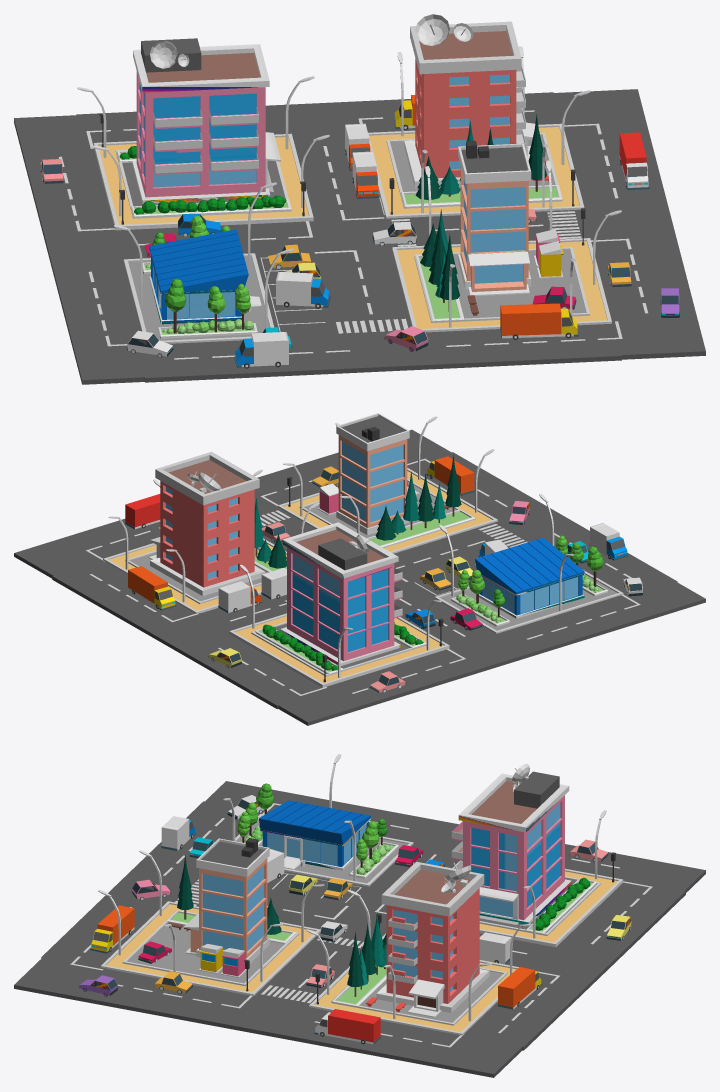
Rendered from smartCity.obj.
The picture shows the model from 3 angles, top to bottom: view 1: azimuth 30°, elevation 25°; view 2: azimuth 150°, elevation 25°; view 3: azimuth 270°, elevation 25°; orthographic projection. The views are drawn at different scales.
Visible parts, largest first — view 1: ROAD, House, House_1, House_2, Shop, Floor, Floor_2, Floor_1, ROAD.Lines.12, Floor.4_2, Floor.4_3, Car_08.5 (+24 smaller); view 2: ROAD, House, House_1, House_2, Shop, Floor, Floor_2, ROAD.Lines.12, Floor.4_3, Car_08.3, Cube.7_1, Floor_1 (+13 smaller); view 3: ROAD, House, House_1, House_2, Shop, Floor_2, Floor.4_2, Floor_1, Floor, ROAD.Lines.12, Floor.4_1, Car_08.4 (+18 smaller).
Part boxes in pixels (bbox=[...]): ROAD: bbox=[14, 89, 705, 384]; House: bbox=[132, 38, 280, 203]; House_1: bbox=[404, 21, 535, 188]; House_2: bbox=[458, 141, 531, 295]; Shop: bbox=[149, 229, 261, 324]; Floor: bbox=[93, 133, 313, 230]; Floor_2: bbox=[392, 238, 611, 332]; Floor_1: bbox=[368, 123, 584, 218]; ROAD.Lines.12: bbox=[58, 110, 647, 359]; Floor.4_2: bbox=[414, 247, 589, 322]; Floor.4_3: bbox=[123, 253, 274, 343]; Car_08.5: bbox=[500, 303, 578, 339]; ROAD: bbox=[14, 429, 705, 725]; House: bbox=[280, 522, 402, 665]; House_1: bbox=[148, 451, 264, 595]; House_2: bbox=[336, 413, 419, 535]; Shop: bbox=[475, 537, 584, 618]; Floor: bbox=[229, 613, 449, 687]; Floor_2: bbox=[277, 468, 497, 553]; ROAD.Lines.12: bbox=[86, 458, 640, 695]; Floor.4_3: bbox=[434, 570, 623, 633]; Car_08.3: bbox=[128, 566, 176, 610]; Cube.7_1: bbox=[366, 509, 475, 547]; Floor_1: bbox=[103, 538, 286, 613]; ROAD: bbox=[14, 781, 705, 1077]; House: bbox=[451, 771, 571, 924]; House_1: bbox=[376, 861, 489, 1017]; House_2: bbox=[183, 838, 269, 963]; Shop: bbox=[259, 800, 370, 870]; Floor_2: bbox=[100, 901, 320, 995]; Floor.4_2: bbox=[122, 910, 299, 986]; Floor_1: bbox=[309, 960, 518, 1035]; Floor: bbox=[452, 860, 623, 947]; ROAD.Lines.12: bbox=[70, 803, 652, 1047]; Floor.4_1: bbox=[331, 967, 507, 1025]; Car_08.4: bbox=[314, 1009, 380, 1044].
Size of the model in its own units: 39.35 by 8.31 by 39.27.
Materials: 1 (1 with a texture image).
